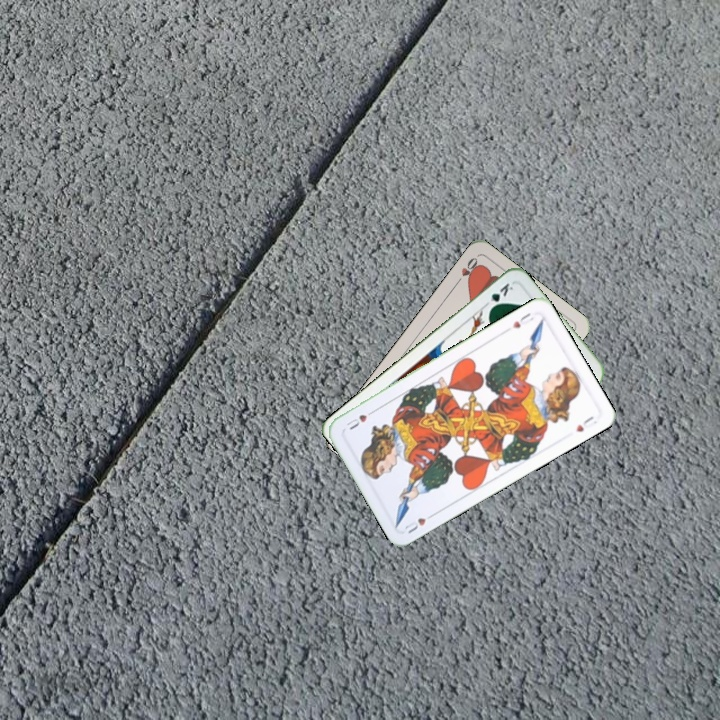GK: (480, 279, 516, 313)
HO: (451, 253, 482, 288)
HU: (401, 509, 438, 536), (508, 309, 536, 331)
